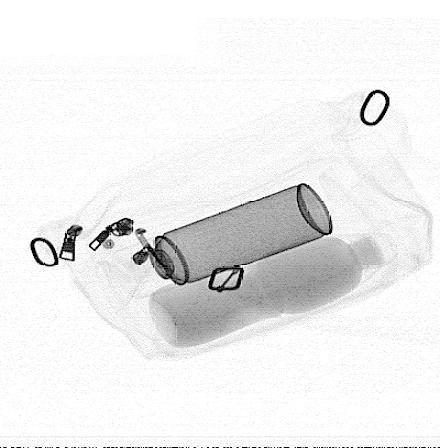Sprayer: (107, 181, 334, 300)
